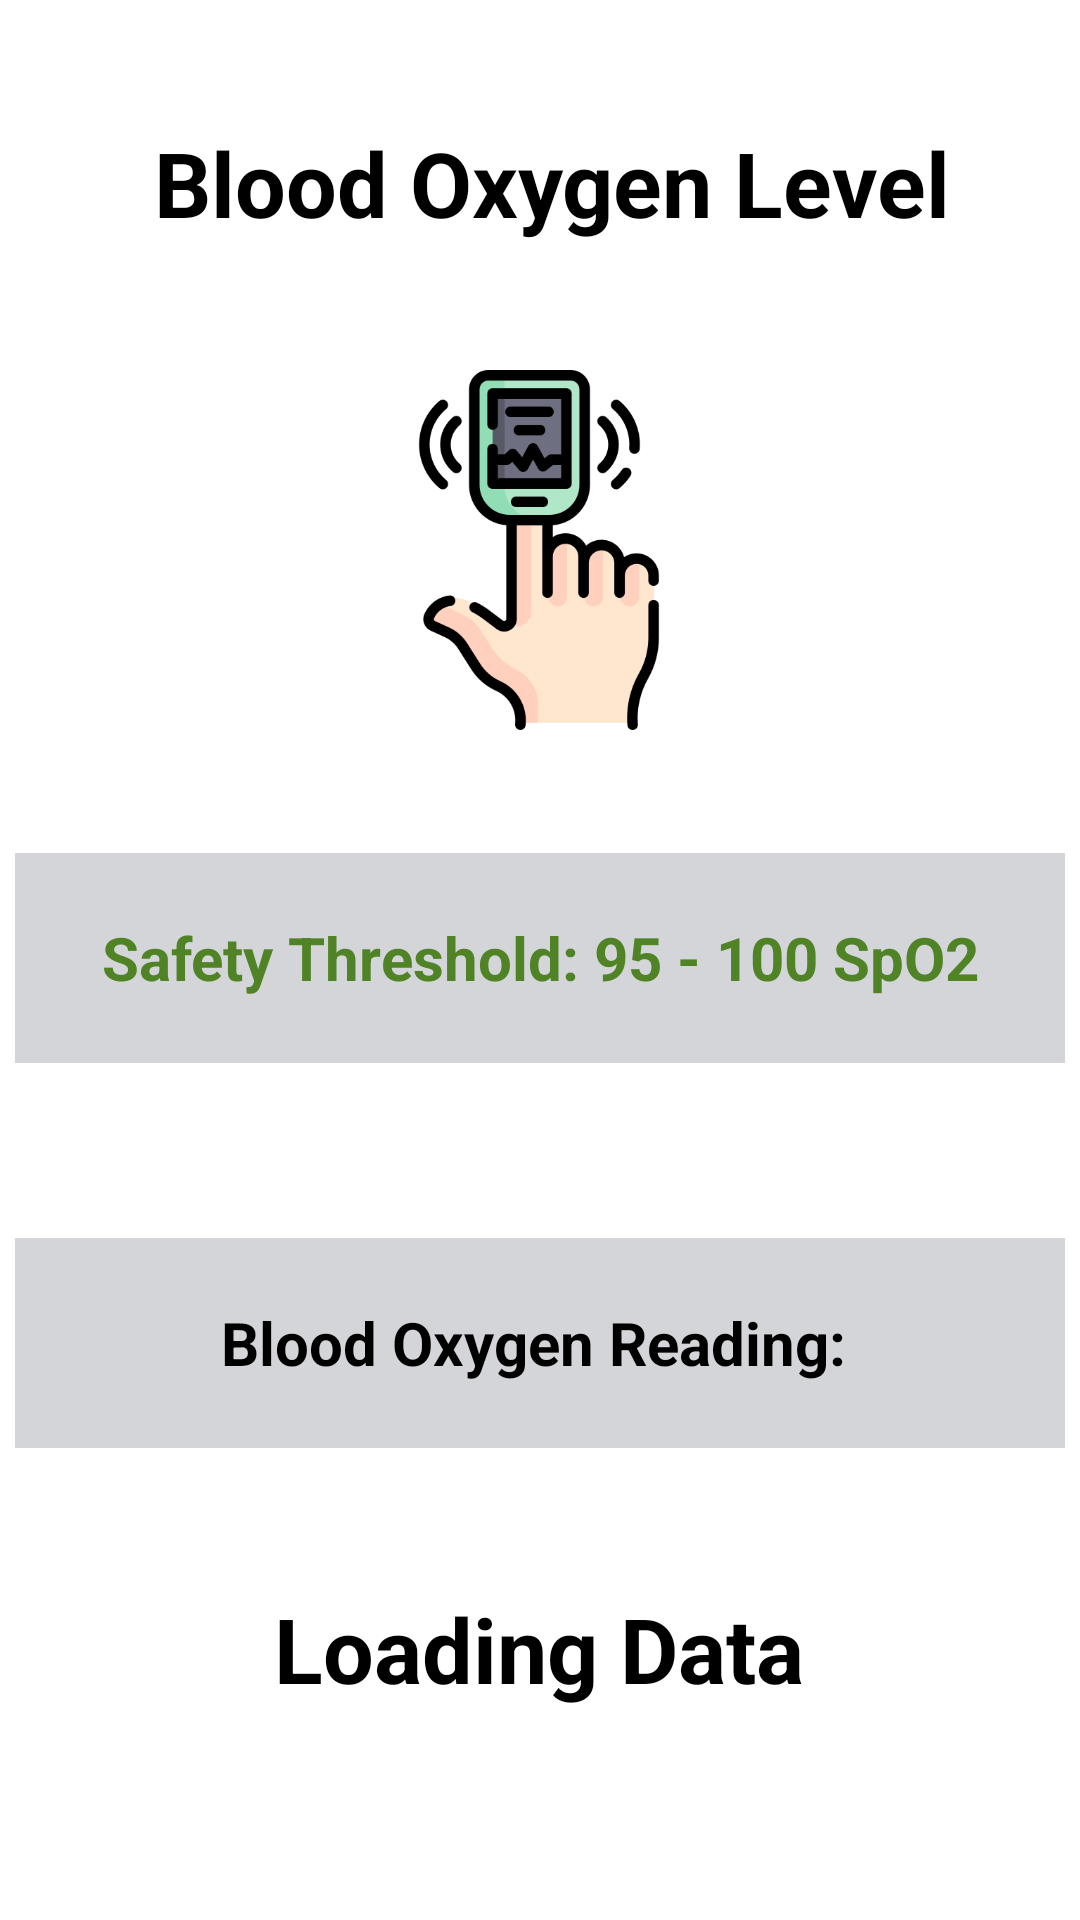

Icon bounding boxes for this 1080px×1920px phone screenshot, format (x1, y1, x2, y2):
pulseoximeter: (419, 370, 659, 730)
